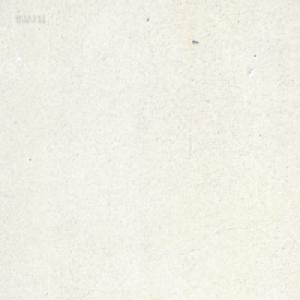Nail: (192, 38, 198, 43)
